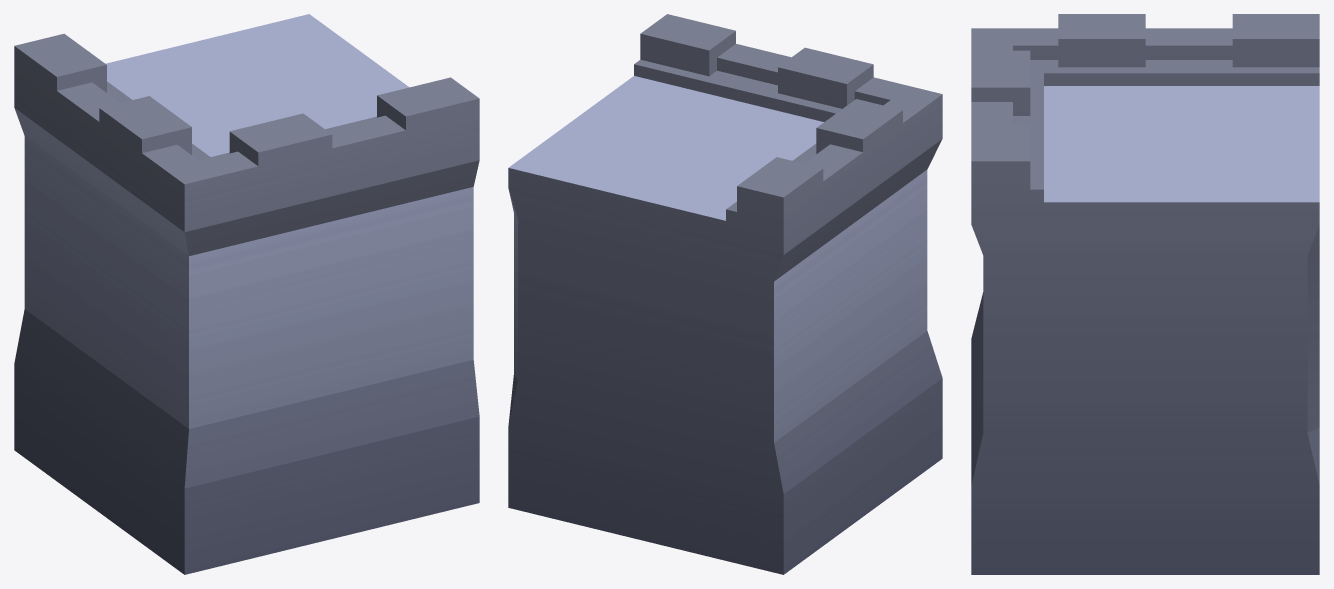
The model's file is wall-corner-half.fbx.
3 renders of one model, left to right at view 1: azimuth 30°, elevation 25°; view 2: azimuth 150°, elevation 25°; view 3: azimuth 270°, elevation 25°, orthographic. The views are drawn at different scales.
Visible parts, largest first — view 1: wall-corner-half; view 2: wall-corner-half; view 3: wall-corner-half.
Boxes of the visible parts, x1,y1,x2,y2 form: wall-corner-half: (14,14,479,574); wall-corner-half: (508,14,942,574); wall-corner-half: (971,14,1319,574).
Bounding box in the file's own units: 1 × 1 × 1.31.
